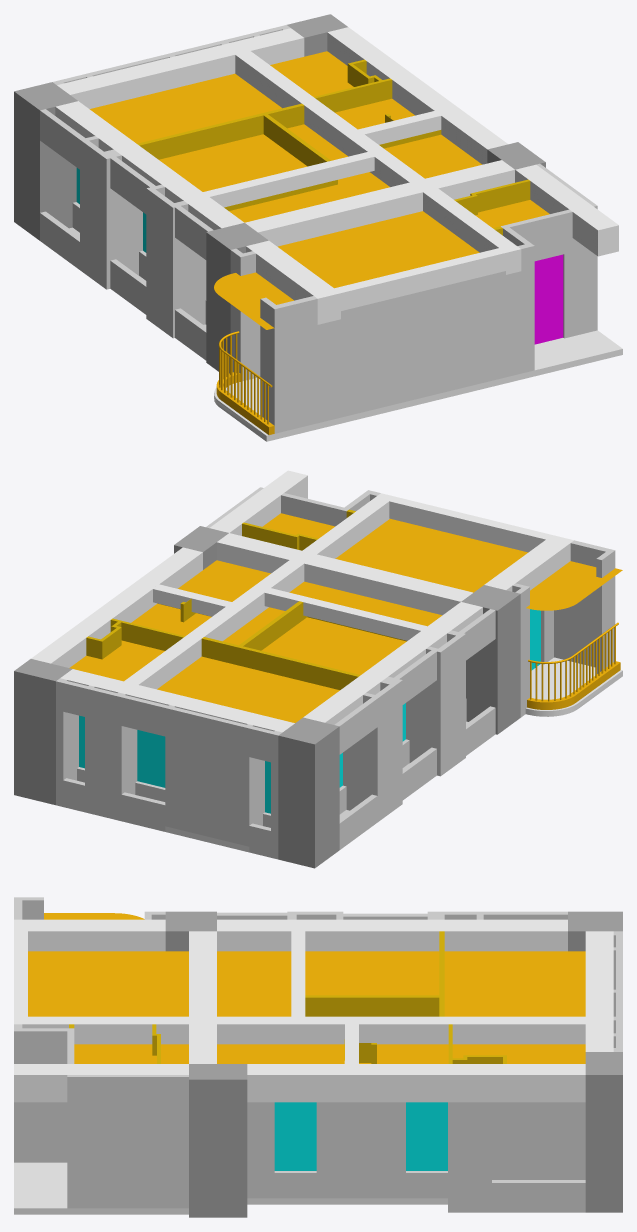
3 renders of one model, top to bottom at view 1: azimuth 30°, elevation 25°; view 2: azimuth 150°, elevation 25°; view 3: azimuth 270°, elevation 25°, orthographic. The views are drawn at different scales.
Size of the model in its own units: 9.43 by 3.25 by 13.02.
